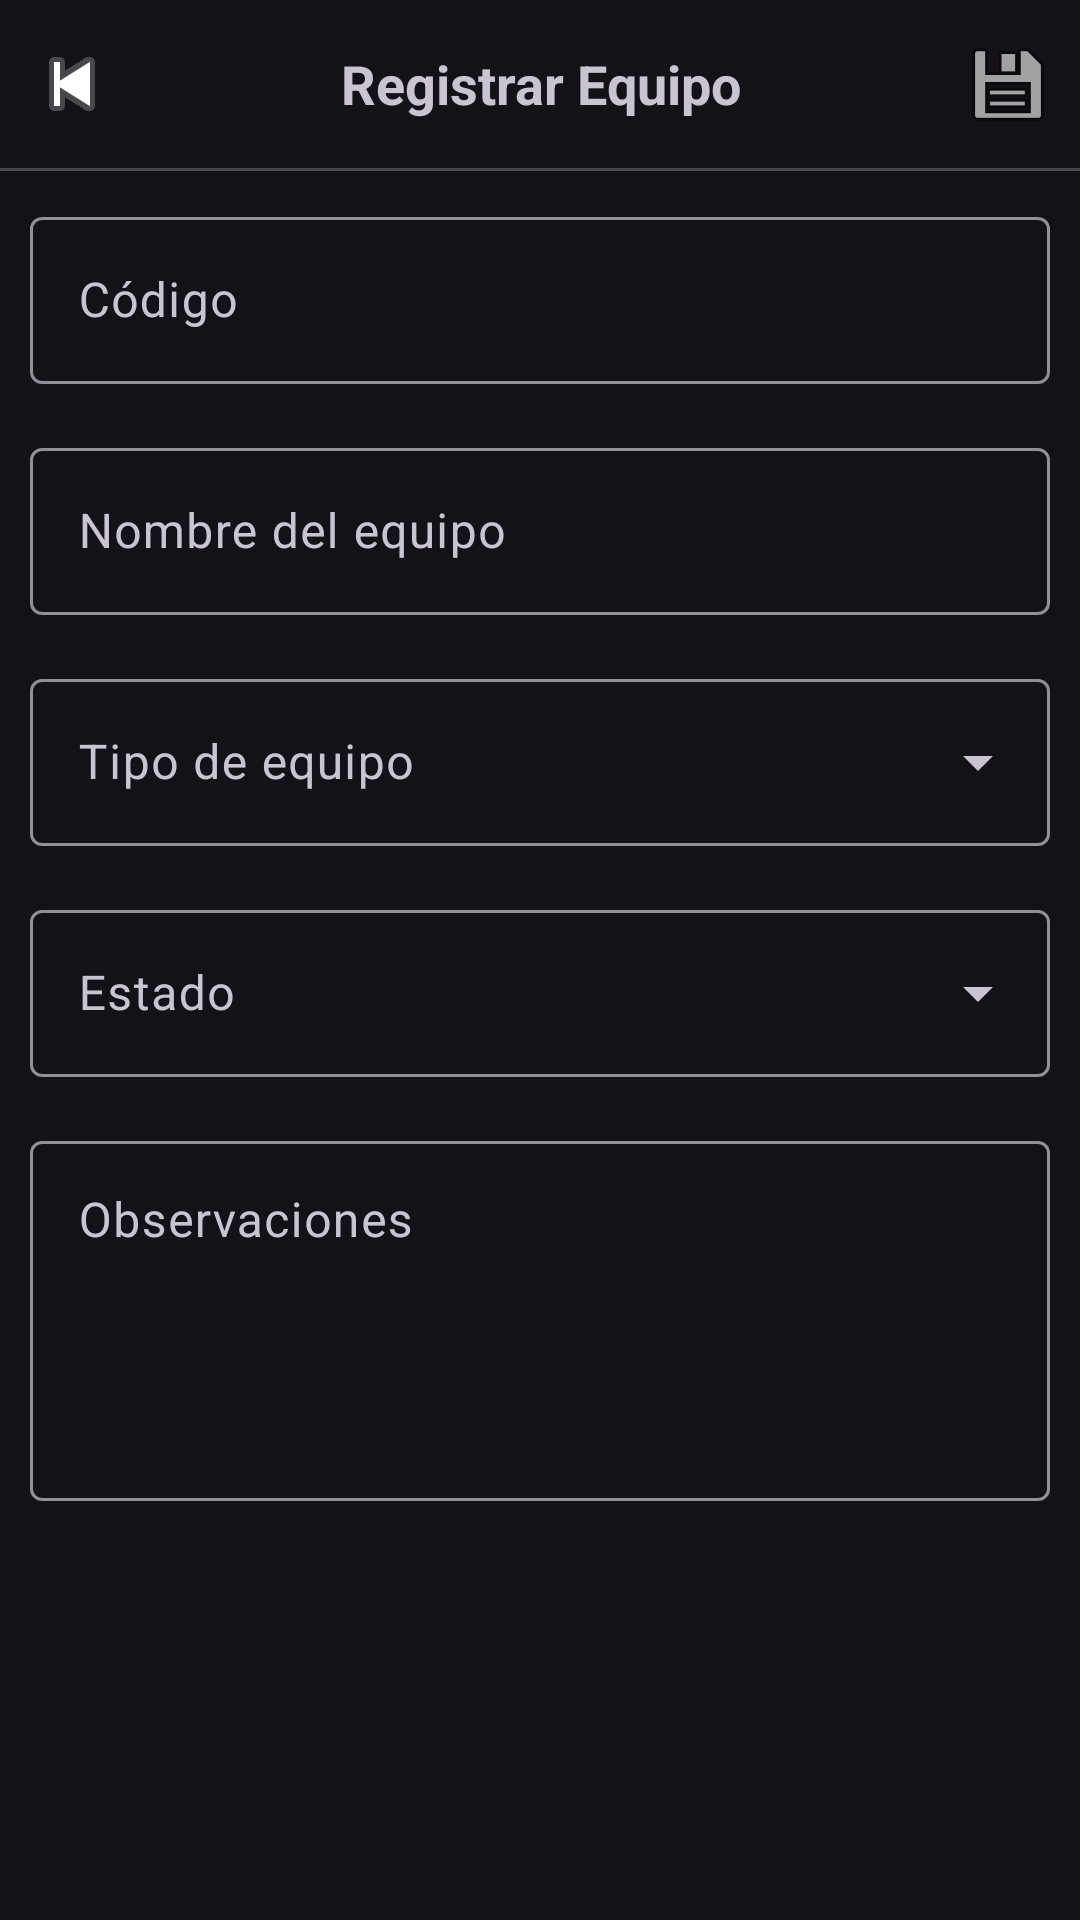

Icons on this 1080w x 1920h Android screen, each with the point to tap as (x,y):
Atrás: (72,84)
Guardar: (1008,84)
